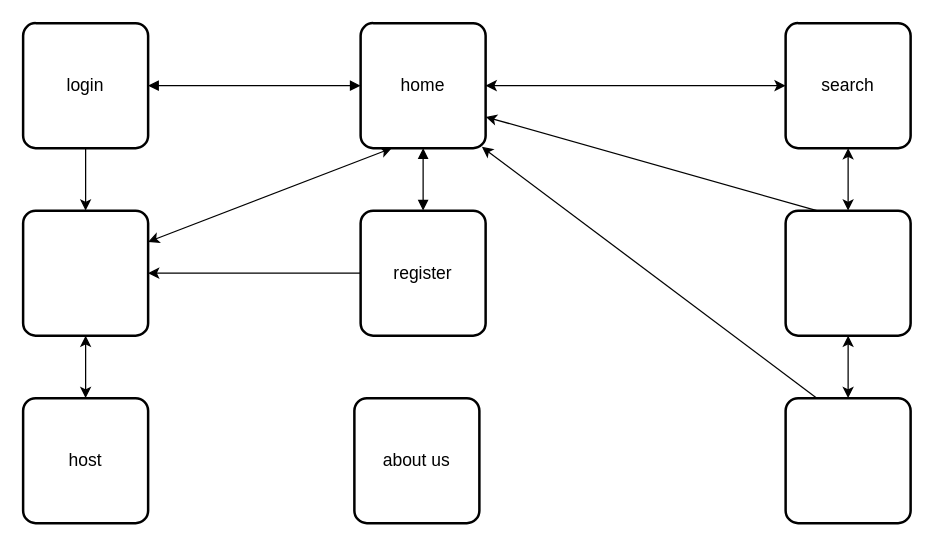
This 933x545 diagram has some shape labels left out. The centre of each missing label's shape, as x and y in pixels:
owner: [847,460]
profile: [85,272]
Room: [847,272]
